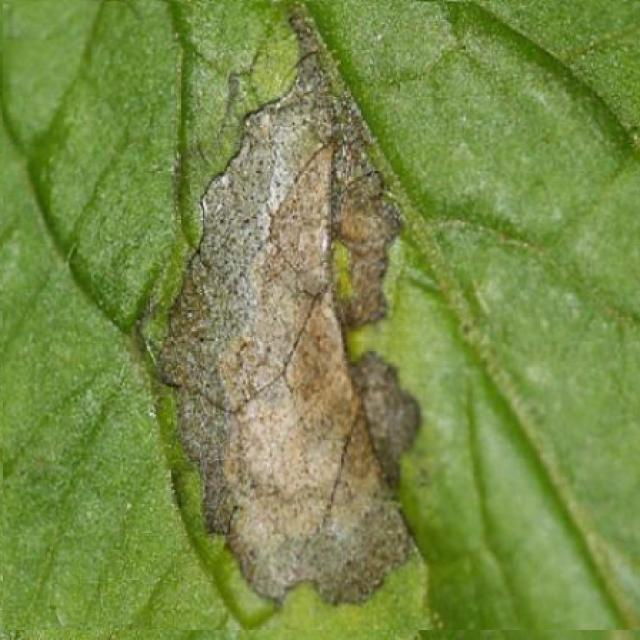Late Blight: (3, 1, 640, 630)
